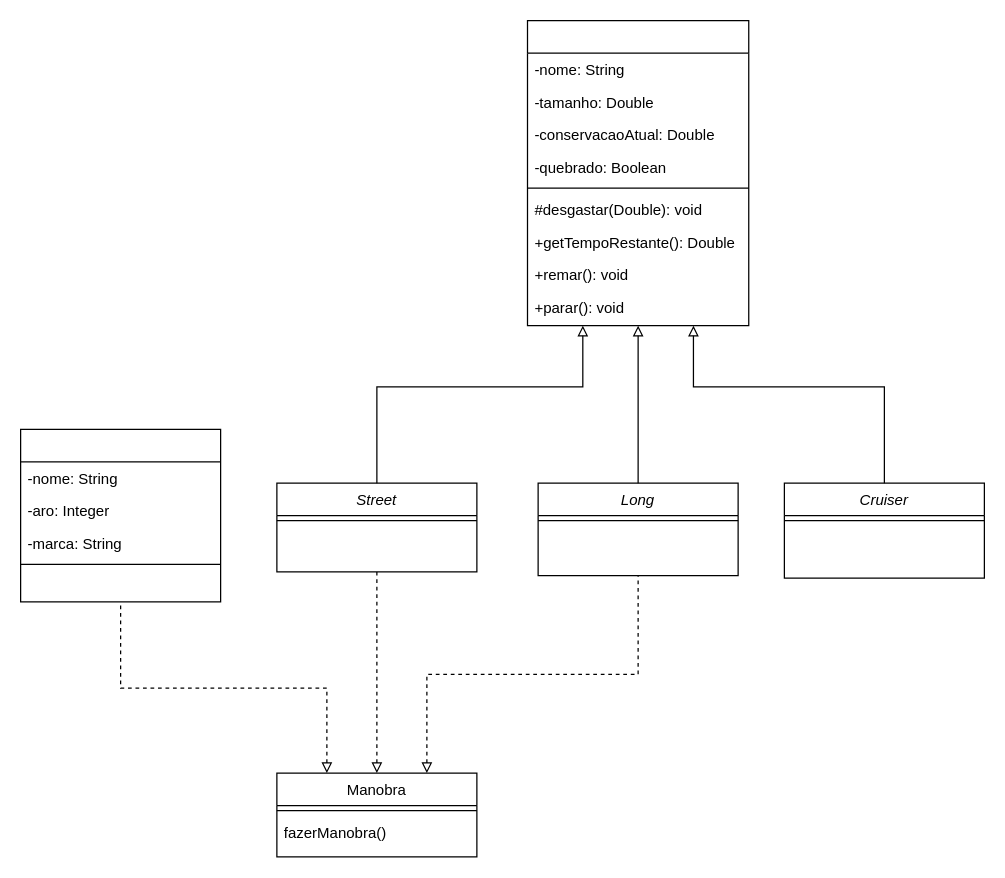
Some shapes in this 1005 by 878 pixel diagram are drawn without their labels. The box of each missing label's shape, as (x1, y1, x2, y2) in pixels:
Bicicleta: (19, 428, 221, 602)
Skate: (526, 19, 749, 326)
